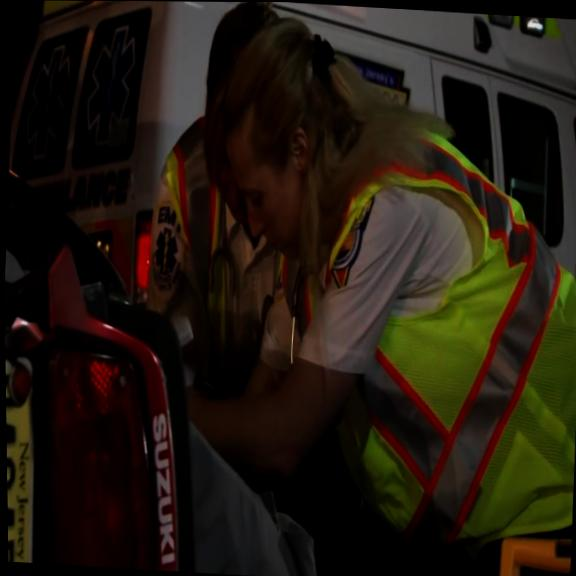safety_vest: (261, 114, 576, 557), (148, 111, 244, 396)
